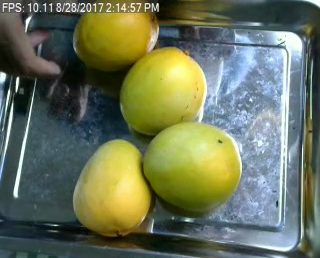Mango: (145, 121, 241, 213), (68, 140, 152, 235), (122, 45, 205, 135), (72, 6, 158, 68)
